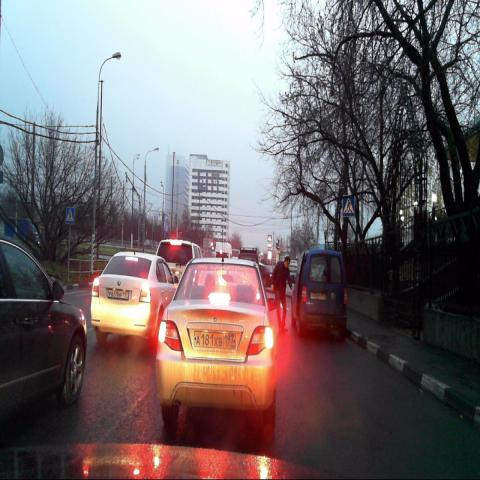5_19_1: (342, 195, 354, 216), (65, 207, 75, 223)
